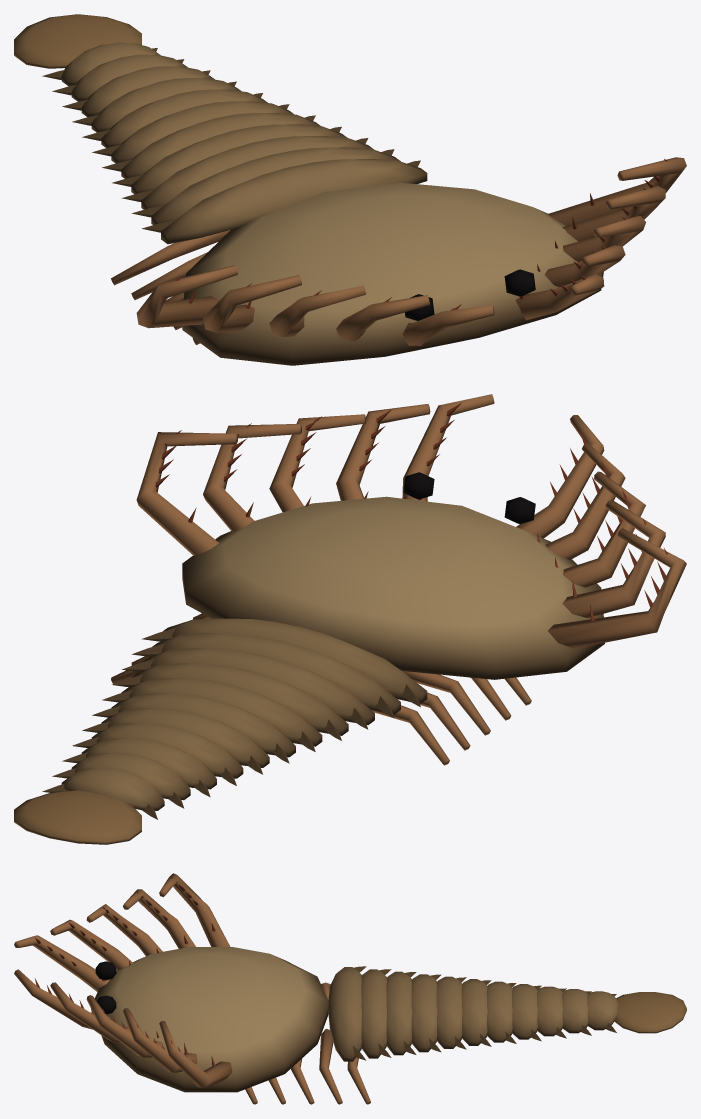
The model's file is Sanctacaris.fbx.
The picture shows the model from 3 angles, top to bottom: view 1: azimuth 30°, elevation 25°; view 2: azimuth 150°, elevation 25°; view 3: azimuth 270°, elevation 25°; orthographic projection. The views are drawn at different scales.
Parts seen in each view (by area): view 1: Sanctacaris; view 2: Sanctacaris; view 3: Sanctacaris.
Part boxes in pixels (<box>): Sanctacaris: <box>14,14,686,365</box>; Sanctacaris: <box>14,394,686,844</box>; Sanctacaris: <box>14,873,686,1104</box>.
Bounding box in the file's own units: 1.04 × 0.255 × 1.67.
